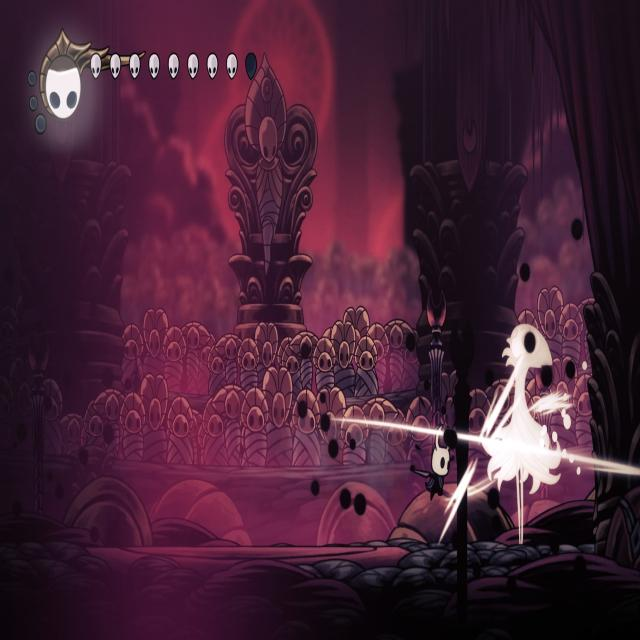Grimm: (478, 312, 564, 546)
Player: (405, 417, 457, 503)
